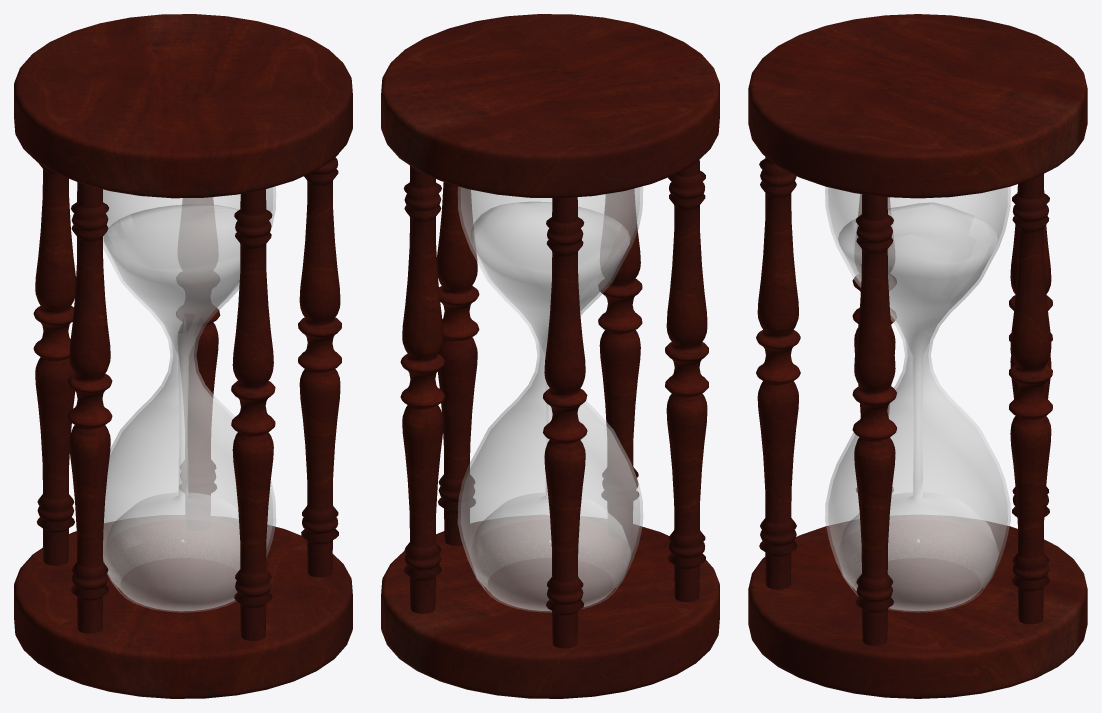
The model's file is Antique hourglass.glb.
3 renders of one model, left to right at view 1: azimuth 30°, elevation 25°; view 2: azimuth 150°, elevation 25°; view 3: azimuth 270°, elevation 25°, orthographic.
Parts seen in each view (by area): view 1: Top, Glass, Base, Sand, Spindle, Spindle4, Spindle1, Spindle3, Spindle2; view 2: Top, Base, Glass, Sand, Spindle3, Spindle2, Spindle4, Spindle1, Spindle; view 3: Top, Base, Glass, Sand, Spindle1, Spindle2, Spindle, Spindle3, Spindle4.
Boxes of the visible parts, <box> form: Top: <box>14,14,352,198</box>; Glass: <box>103,186,275,612</box>; Base: <box>14,515,352,698</box>; Sand: <box>103,204,239,610</box>; Spindle: <box>231,189,275,640</box>; Spindle4: <box>67,182,112,633</box>; Spindle1: <box>298,153,341,577</box>; Spindle3: <box>33,163,75,565</box>; Spindle2: <box>176,197,220,530</box>; Top: <box>381,14,719,198</box>; Base: <box>381,515,719,698</box>; Glass: <box>458,186,642,612</box>; Sand: <box>470,202,630,610</box>; Spindle3: <box>543,197,587,648</box>; Spindle2: <box>400,166,445,613</box>; Spindle4: <box>665,159,708,601</box>; Spindle1: <box>437,182,479,545</box>; Spindle: <box>598,189,642,537</box>; Top: <box>748,14,1087,198</box>; Base: <box>748,515,1087,698</box>; Glass: <box>825,187,1010,612</box>; Sand: <box>837,202,998,610</box>; Spindle1: <box>852,194,896,645</box>; Spindle2: <box>1009,174,1052,624</box>; Spindle: <box>756,156,800,589</box>; Spindle3: <box>1009,174,1052,516</box>; Spindle4: <box>852,194,896,492</box>.
Bounding box in the file's own units: 0.2839 × 0.5032 × 0.2839.
3 materials, 1 textured.
